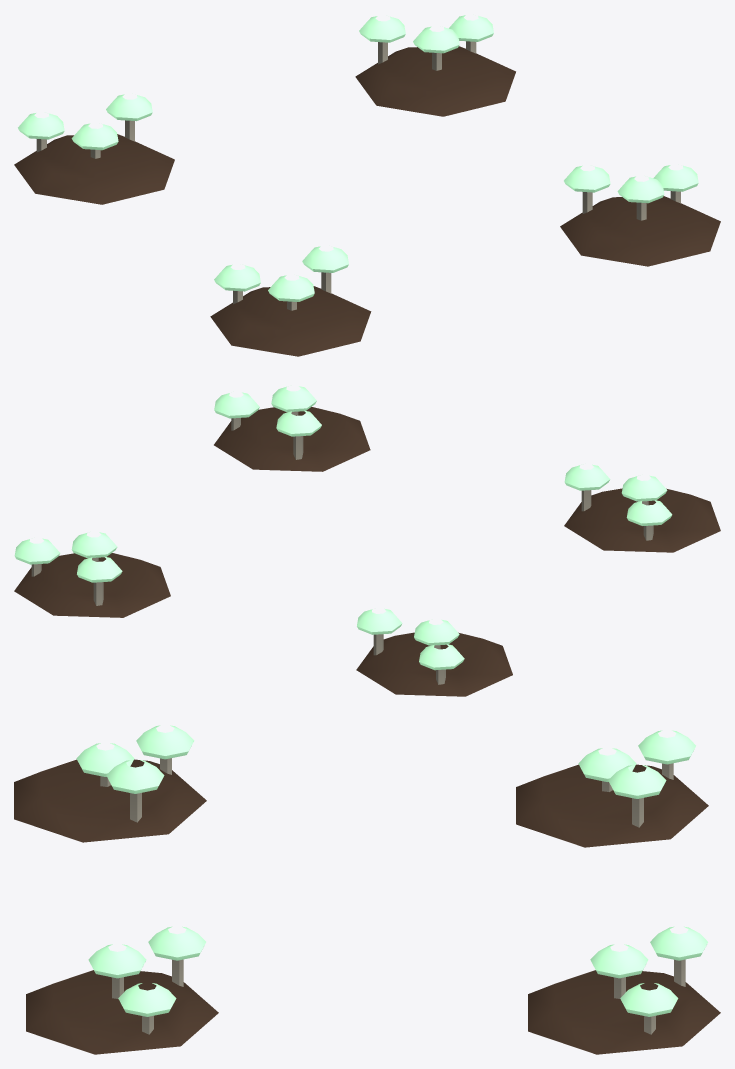
File: crop_mushroom_s2.glb
3 renders of one model, top to bottom at view 1: azimuth 30°, elevation 25°; view 2: azimuth 150°, elevation 25°; view 3: azimuth 270°, elevation 25°, orthographic. The views are drawn at different scales.
Parts seen in each view (by area): view 1: crop_mushroom_s2; view 2: crop_mushroom_s2; view 3: crop_mushroom_s2.
Part boxes in pixels (box(x1,y1,x2,y2)): crop_mushroom_s2: box(14, 15, 720, 356); crop_mushroom_s2: box(14, 386, 720, 696); crop_mushroom_s2: box(14, 725, 720, 1054).
Bounding box in the file's own units: 1.17 × 0.123 × 1.18.
